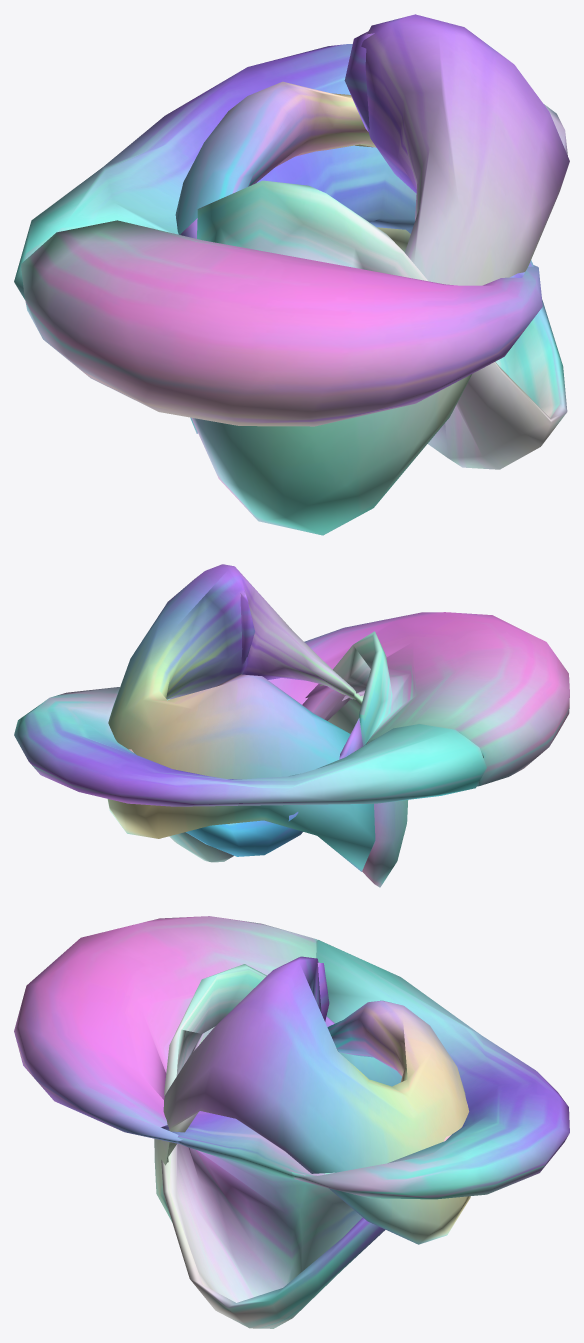
The model's file is randomshape6.glb.
3 views of the same model, one above another, from view 1: azimuth 30°, elevation 25°; view 2: azimuth 150°, elevation 25°; view 3: azimuth 270°, elevation 25° (orthographic). The views are drawn at different scales.
Visible parts, largest first — view 1: SuperShapesMesh.006; view 2: SuperShapesMesh.006; view 3: SuperShapesMesh.006.
Boxes of the visible parts, <box> form: SuperShapesMesh.006: <box>14,14,569,535</box>; SuperShapesMesh.006: <box>14,564,569,887</box>; SuperShapesMesh.006: <box>14,916,569,1328</box>.
Bounding box in the file's own units: 7.69 × 5.34 × 7.71.
1 material, 1 textured.
